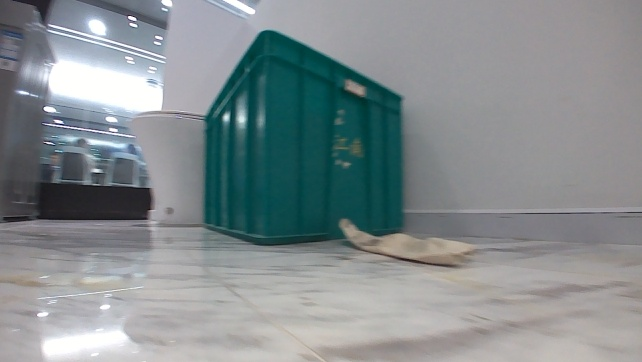socks: (338, 213, 483, 269)
toilet: (125, 108, 205, 226)
